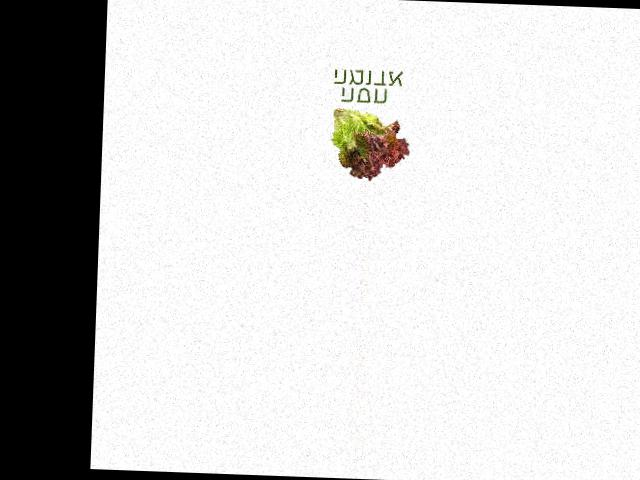lettuce: (322, 105, 412, 182)
